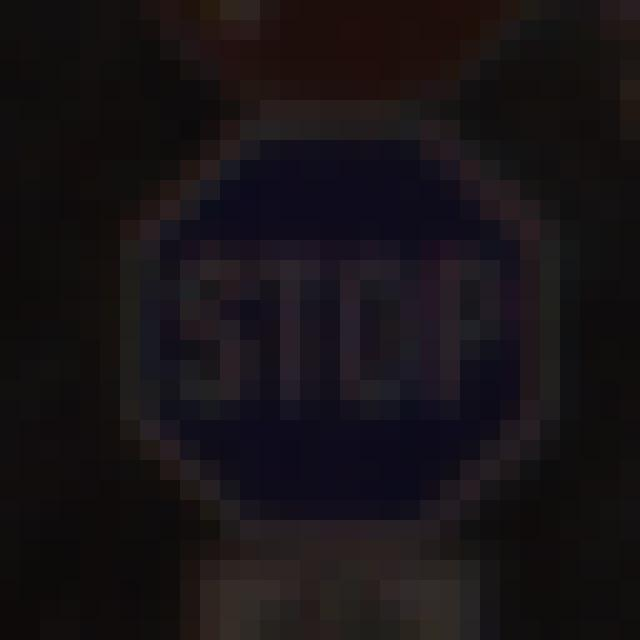STOP: (94, 94, 587, 539)
